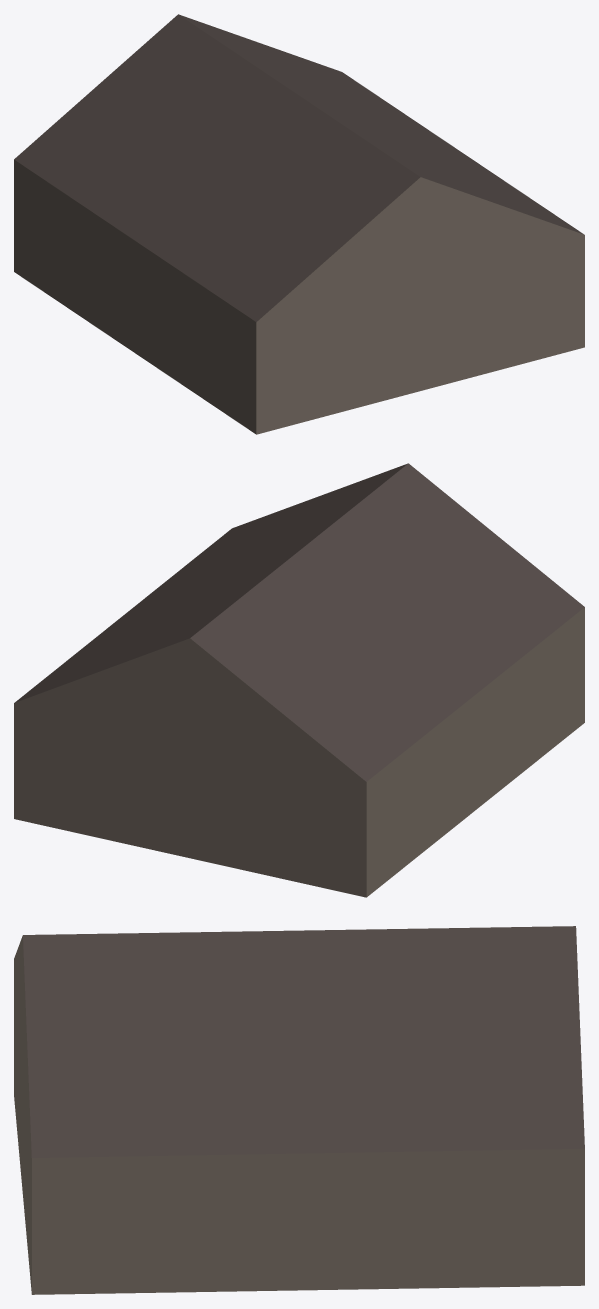
3 views of the same model, one above another, from view 1: azimuth 30°, elevation 25°; view 2: azimuth 150°, elevation 25°; view 3: azimuth 270°, elevation 25° (orthographic). The views are drawn at different scales.
Visible parts, largest first — view 1: HP-w389701948; view 2: HP-w389701948; view 3: HP-w389701948.
Part boxes in pixels (x1,y1,x2,y2): HP-w389701948: (14, 14, 584, 434); HP-w389701948: (14, 463, 584, 897); HP-w389701948: (14, 926, 584, 1294).
Bounding box in the file's own units: 9.8 × 5.71 × 11.35.
